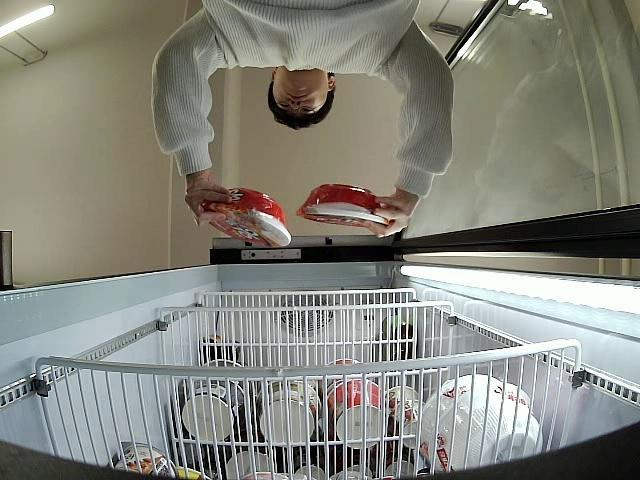10_wangTtukkeong: (210, 188, 292, 250), (297, 182, 390, 229)
